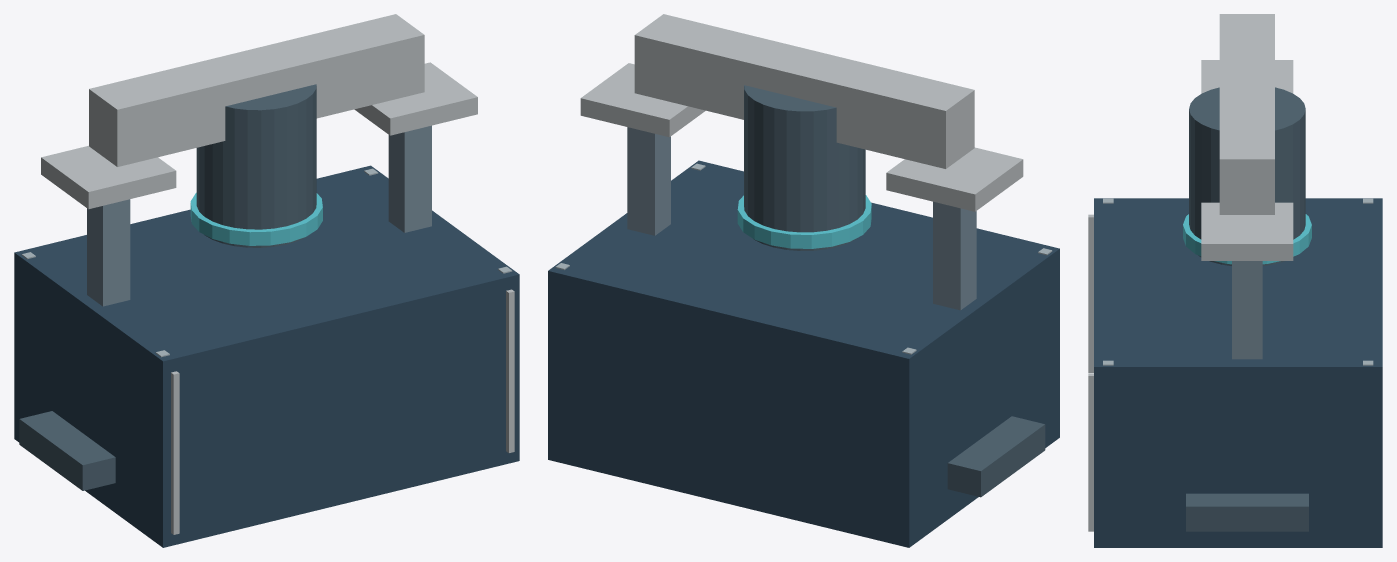
The model's file is 51_L75_DopantJunctionDepthScanner.glb.
3 renders of one model, left to right at view 1: azimuth 30°, elevation 25°; view 2: azimuth 150°, elevation 25°; view 3: azimuth 270°, elevation 25°, orthographic. The views are drawn at different scales.
Parts seen in each view (by area): view 1: DopantJunctionDepthScanner_Node_0000, DopantJunctionDepthScanner_Node_0007, DopantJunctionDepthScanner_Node_0008, DopantJunctionDepthScanner_Node_0012, DopantJunctionDepthScanner_Node_0011, DopantJunctionDepthScanner_Node_0010, DopantJunctionDepthScanner_Node_0013, DopantJunctionDepthScanner_Node_0015, DopantJunctionDepthScanner_Node_0009, DopantJunctionDepthScanner_Node_0005, DopantJunctionDepthScanner_Node_0006; view 2: DopantJunctionDepthScanner_Node_0000, DopantJunctionDepthScanner_Node_0007, DopantJunctionDepthScanner_Node_0008, DopantJunctionDepthScanner_Node_0012, DopantJunctionDepthScanner_Node_0011, DopantJunctionDepthScanner_Node_0013, DopantJunctionDepthScanner_Node_0010, DopantJunctionDepthScanner_Node_0015, DopantJunctionDepthScanner_Node_0009; view 3: DopantJunctionDepthScanner_Node_0000, DopantJunctionDepthScanner_Node_0007, DopantJunctionDepthScanner_Node_0008, DopantJunctionDepthScanner_Node_0014, DopantJunctionDepthScanner_Node_0015, DopantJunctionDepthScanner_Node_0013, DopantJunctionDepthScanner_Node_0012, DopantJunctionDepthScanner_Node_0005, DopantJunctionDepthScanner_Node_0006, DopantJunctionDepthScanner_Node_0009.
Part boxes in pixels (<box>): DopantJunctionDepthScanner_Node_0000: <box>14,165,519,547</box>; DopantJunctionDepthScanner_Node_0007: <box>89,14,424,166</box>; DopantJunctionDepthScanner_Node_0008: <box>196,84,316,247</box>; DopantJunctionDepthScanner_Node_0012: <box>41,145,176,209</box>; DopantJunctionDepthScanner_Node_0011: <box>19,411,115,490</box>; DopantJunctionDepthScanner_Node_0010: <box>87,199,130,306</box>; DopantJunctionDepthScanner_Node_0013: <box>388,125,431,232</box>; DopantJunctionDepthScanner_Node_0015: <box>354,62,477,135</box>; DopantJunctionDepthScanner_Node_0009: <box>190,192,322,245</box>; DopantJunctionDepthScanner_Node_0005: <box>171,371,179,534</box>; DopantJunctionDepthScanner_Node_0006: <box>506,289,514,452</box>; DopantJunctionDepthScanner_Node_0000: <box>548,160,1059,547</box>; DopantJunctionDepthScanner_Node_0007: <box>634,14,974,168</box>; DopantJunctionDepthScanner_Node_0008: <box>744,85,865,250</box>; DopantJunctionDepthScanner_Node_0012: <box>886,147,1023,211</box>; DopantJunctionDepthScanner_Node_0011: <box>947,416,1045,497</box>; DopantJunctionDepthScanner_Node_0013: <box>627,127,670,235</box>; DopantJunctionDepthScanner_Node_0010: <box>933,201,976,310</box>; DopantJunctionDepthScanner_Node_0015: <box>580,63,705,137</box>; DopantJunctionDepthScanner_Node_0009: <box>737,195,871,248</box>; DopantJunctionDepthScanner_Node_0000: <box>1094,198,1382,547</box>; DopantJunctionDepthScanner_Node_0007: <box>1219,14,1274,214</box>; DopantJunctionDepthScanner_Node_0008: <box>1189,87,1305,265</box>; DopantJunctionDepthScanner_Node_0014: <box>1186,493,1308,531</box>; DopantJunctionDepthScanner_Node_0015: <box>1201,202,1293,260</box>; DopantJunctionDepthScanner_Node_0013: <box>1232,261,1262,359</box>; DopantJunctionDepthScanner_Node_0012: <box>1201,60,1293,93</box>; DopantJunctionDepthScanner_Node_0005: <box>1088,214,1093,372</box>; DopantJunctionDepthScanner_Node_0006: <box>1088,373,1093,531</box>; DopantJunctionDepthScanner_Node_0009: <box>1183,214,1311,264</box>.
Bounding box in the file's own units: 1.52 × 1.35 × 0.9576.
